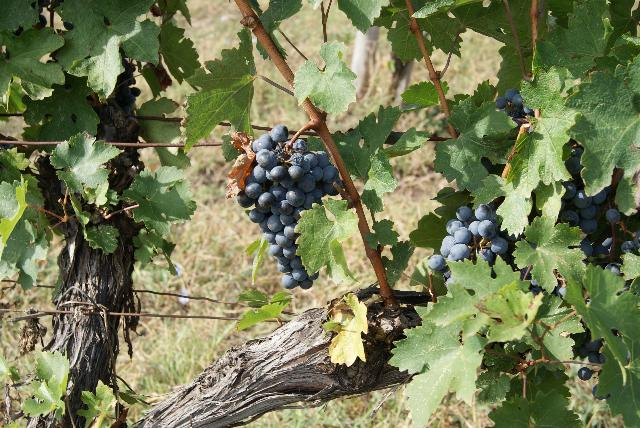grapes: (238, 125, 341, 289)
